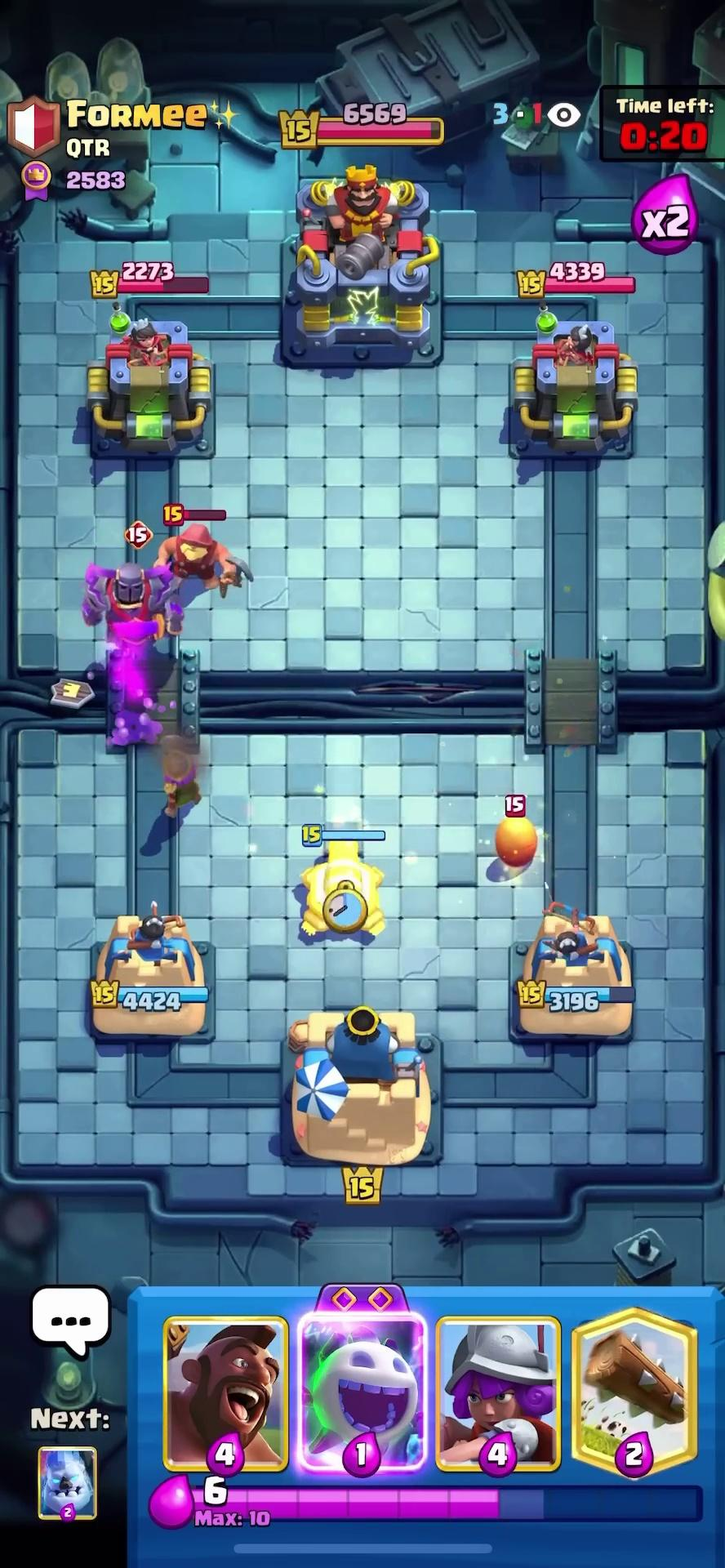cannon: (284, 821, 398, 945)
musketeer: (141, 725, 214, 825)
